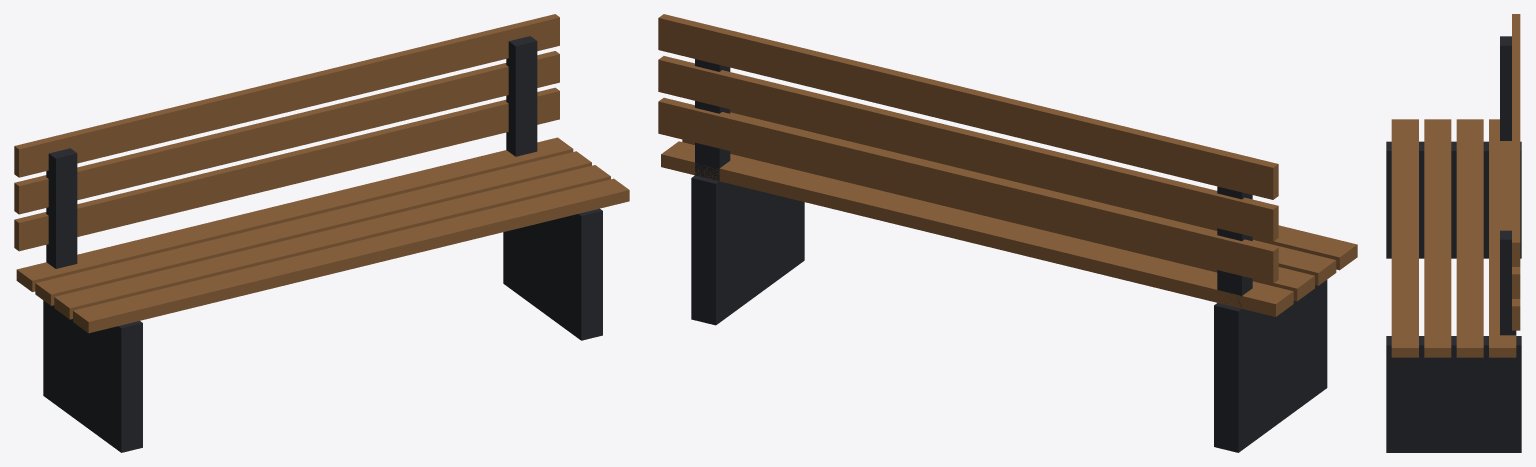
File: SM_Bench.fbx
3 renders of one model, left to right at view 1: azimuth 30°, elevation 25°; view 2: azimuth 150°, elevation 25°; view 3: azimuth 270°, elevation 25°, orthographic. The views are drawn at different scales.
Visible parts, largest first — view 1: SM_Bench; view 2: SM_Bench; view 3: SM_Bench.
Boxes of the visible parts, <box> form: SM_Bench: <box>14,14,629,452</box>; SM_Bench: <box>658,14,1357,452</box>; SM_Bench: <box>1386,14,1521,452</box>.
Size of what is drawn, in the model's own units: 2 by 0.91 by 0.5.
